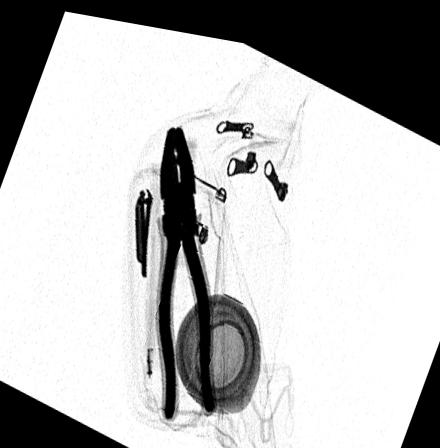Pliers: (158, 121, 216, 414)
